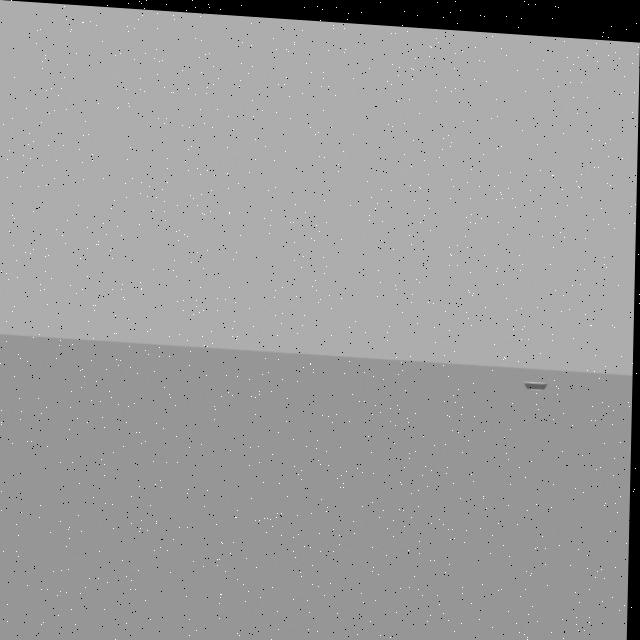bowl: (522, 363, 556, 395)
